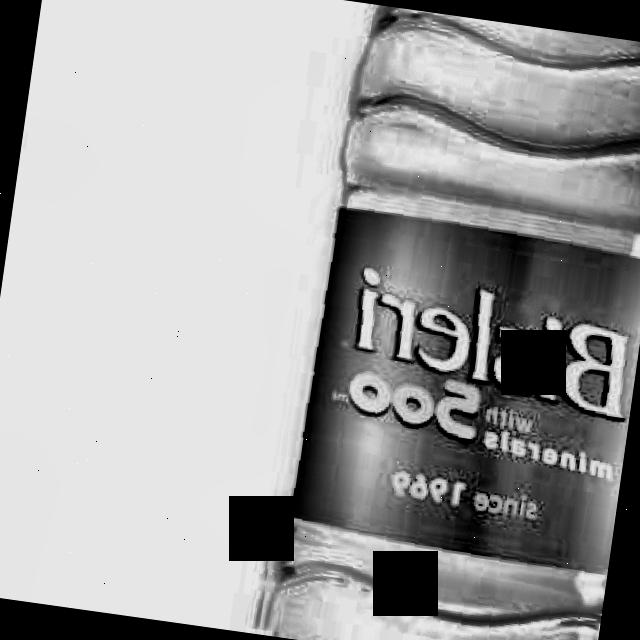bottle: (249, 0, 640, 640)
